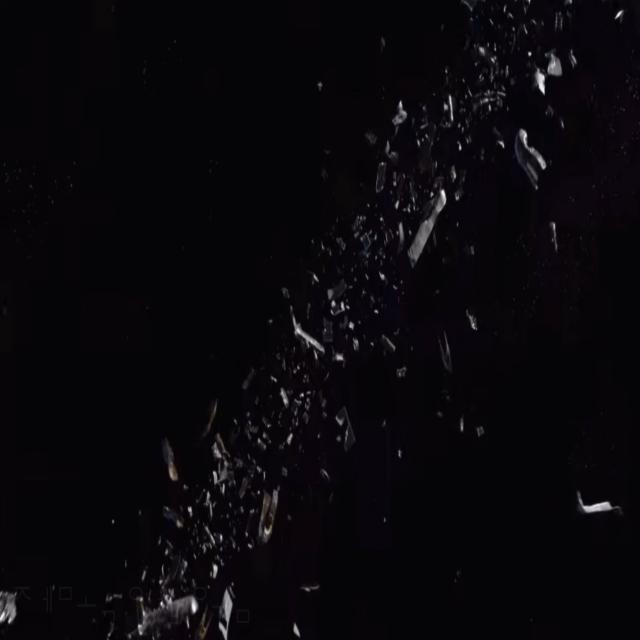large_debris: (116, 595, 202, 635), (410, 182, 449, 270), (515, 119, 549, 195), (576, 484, 626, 530), (258, 483, 286, 554), (292, 311, 329, 361), (208, 434, 235, 490), (332, 406, 360, 456), (215, 589, 242, 639), (323, 281, 353, 325), (472, 88, 512, 116), (0, 583, 21, 635), (161, 433, 180, 485), (438, 88, 458, 132), (438, 330, 456, 370), (534, 64, 554, 98), (392, 96, 408, 132), (546, 53, 566, 81), (374, 159, 389, 195), (467, 306, 481, 339), (549, 219, 561, 256), (204, 518, 218, 548), (384, 139, 401, 161), (395, 220, 409, 246), (179, 554, 193, 578), (320, 461, 335, 482), (553, 10, 565, 36), (208, 402, 219, 430), (476, 37, 489, 60), (495, 132, 509, 152), (460, 0, 477, 16), (209, 563, 223, 582), (361, 228, 372, 252), (366, 128, 381, 144), (569, 47, 577, 75), (280, 387, 290, 407), (294, 615, 302, 638), (448, 162, 456, 184), (286, 428, 296, 445), (612, 10, 626, 22), (334, 352, 348, 362), (176, 516, 184, 532), (314, 268, 324, 280), (185, 505, 193, 519), (505, 62, 512, 66)
